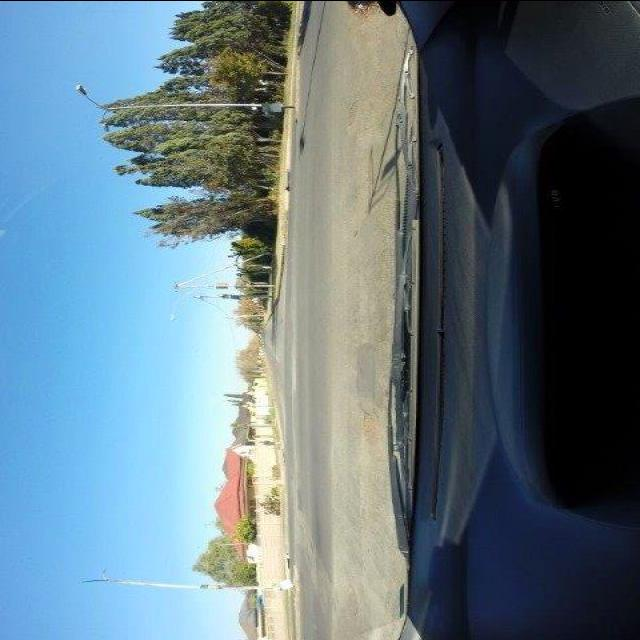lubang: (358, 404, 378, 444)
